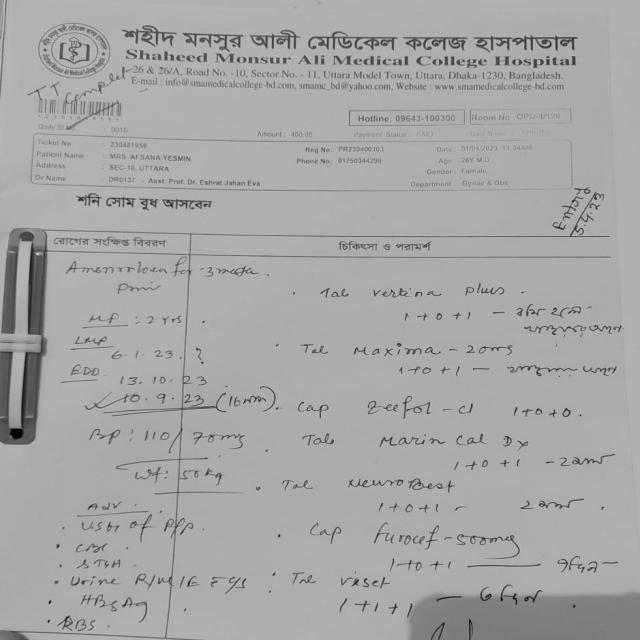Furocef: (366, 519, 441, 555)
MarinCal-DX: (376, 427, 533, 455)
Maxima: (343, 339, 445, 363)
Neurobest: (331, 468, 460, 499)
Vertina Plus: (363, 279, 519, 299)
Viset: (332, 566, 397, 593)
Zeefol-CI: (364, 394, 482, 422)
